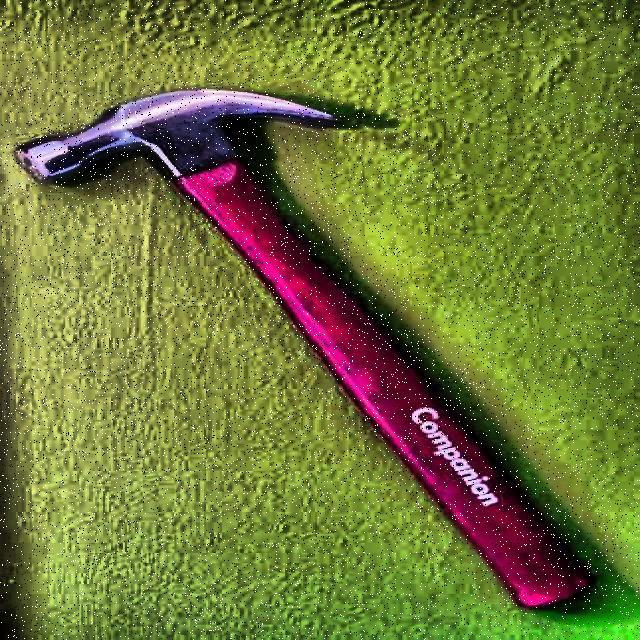hammer: (19, 86, 603, 620)
